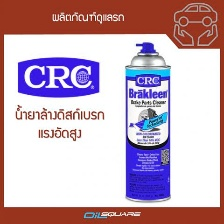aerosol_cans: (122, 39, 173, 204)
